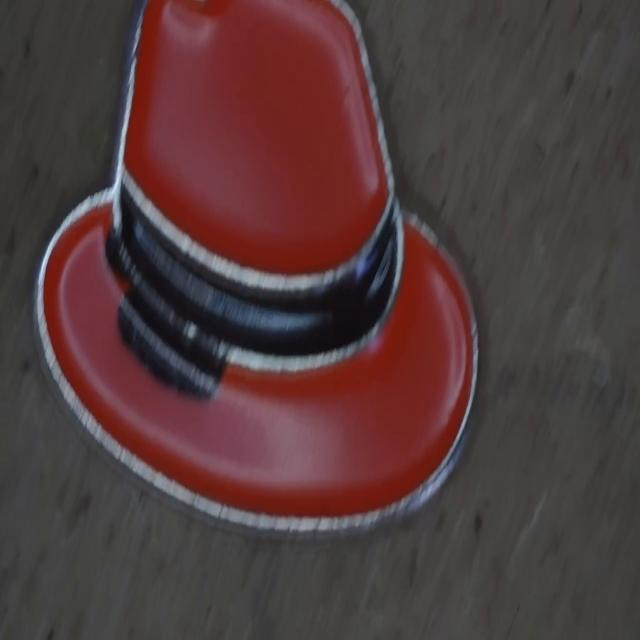Hatband: (120, 171, 402, 356)
Paint_Leak: (106, 231, 229, 398)
RedHatPin: (36, 2, 478, 530)
